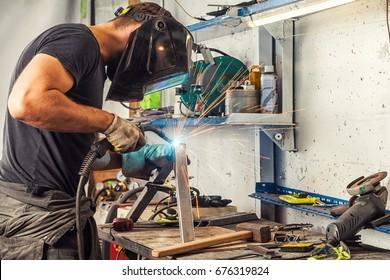gloves: (103, 114, 149, 155)
